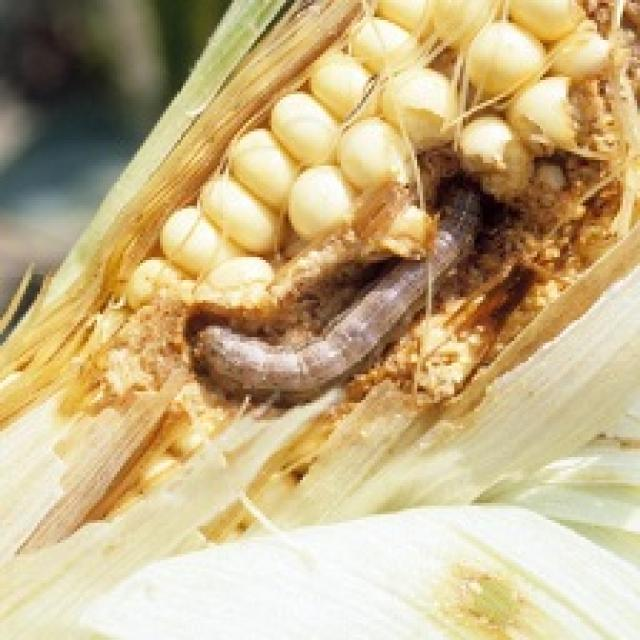worm: (187, 178, 484, 407)
